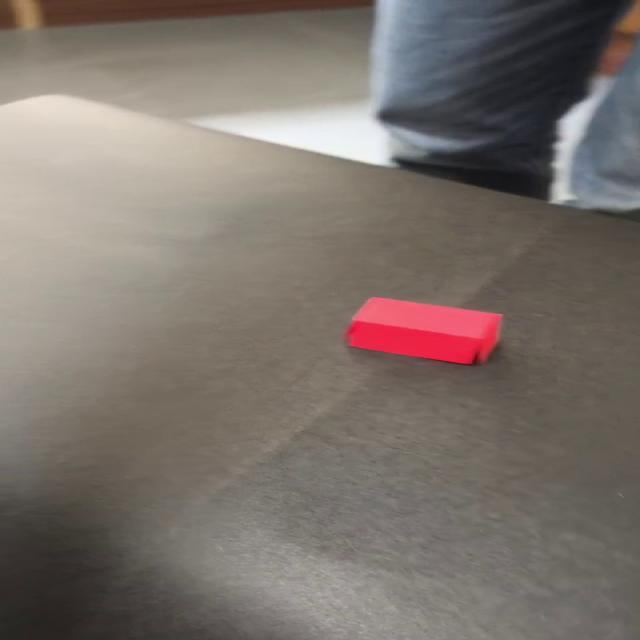red block: (344, 296, 504, 365)
